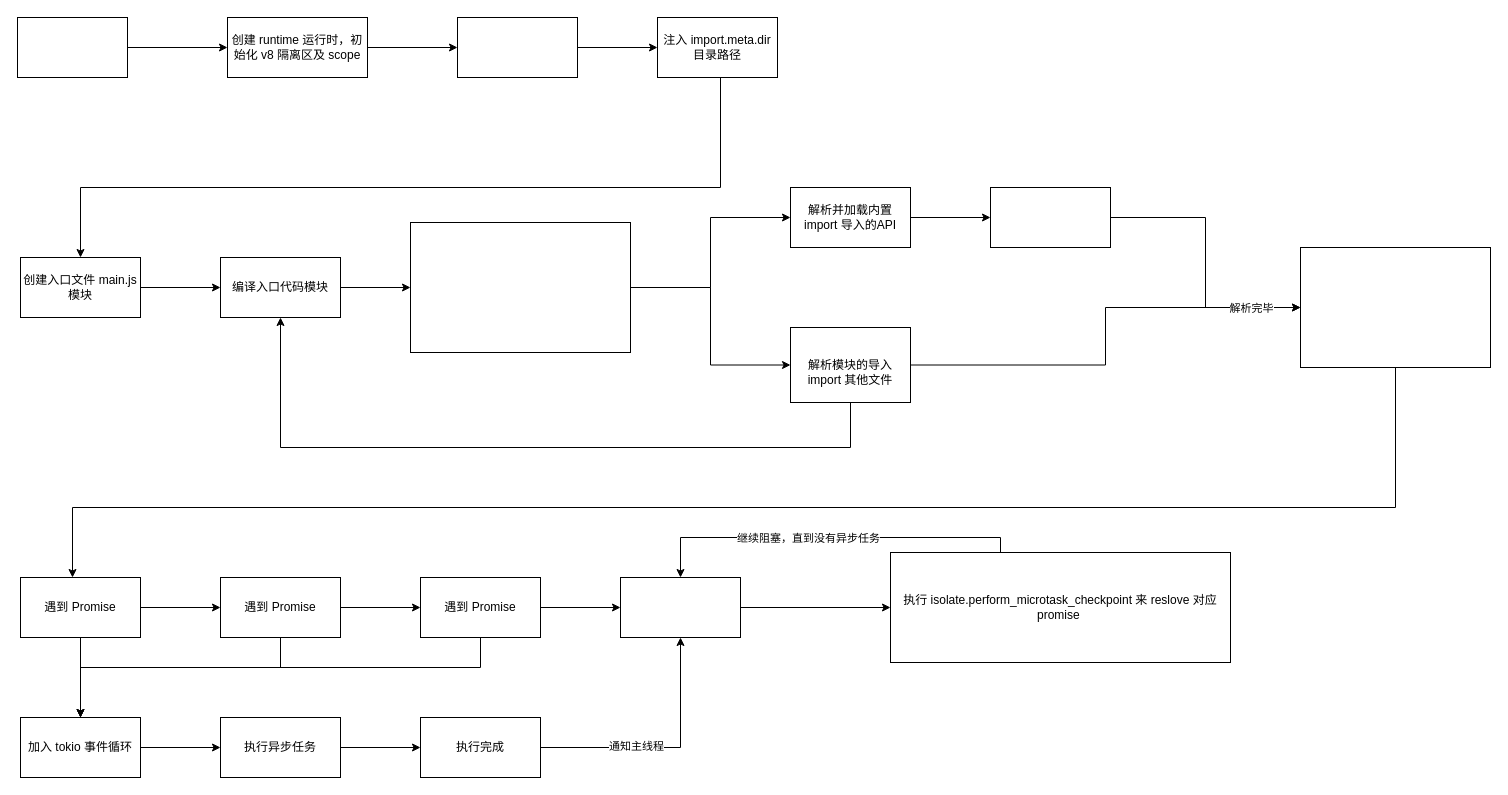
This 1508x795 diagram has some shape labels left out. The shapes that lost their labels are listed below. From the top down, each one's centre as x and y in pixels, then its label:
At (x=72, y=47): "入口函数".
At (x=517, y=47): "注入全局 API 方法 print".
At (x=1050, y=217): "注入 fs api".
At (x=520, y=287): "解析模块的导入 import 其他文件 并 编译模块、解析内置加载 API".
At (x=1395, y=307): "执行模块的顶层代码（变量声明、初始化等）、处理模块的导入/导出、但不会自动调用导出的函数 执行 main 函数".
At (x=680, y=607): "主线程阻塞等待 channel 消息通知".
